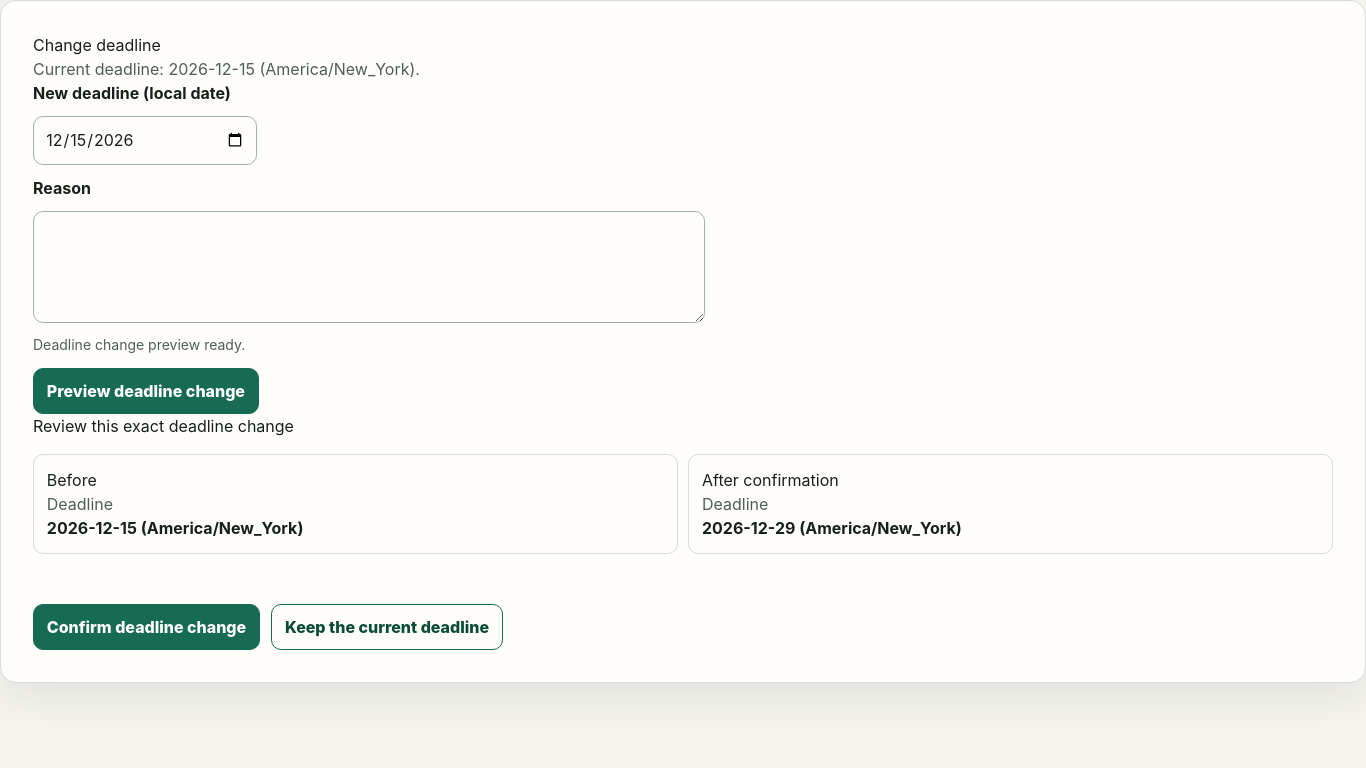
Test: InterviewCampaignDeadline › dismisses a stale confirmation when the date changes
The width and height of the screenshot is (1366, 768).
Type "2027-01-01" into the date field labelled "New deadline (local date)". click: (145, 140)
box: left=33, top=116, right=257, bottom=165
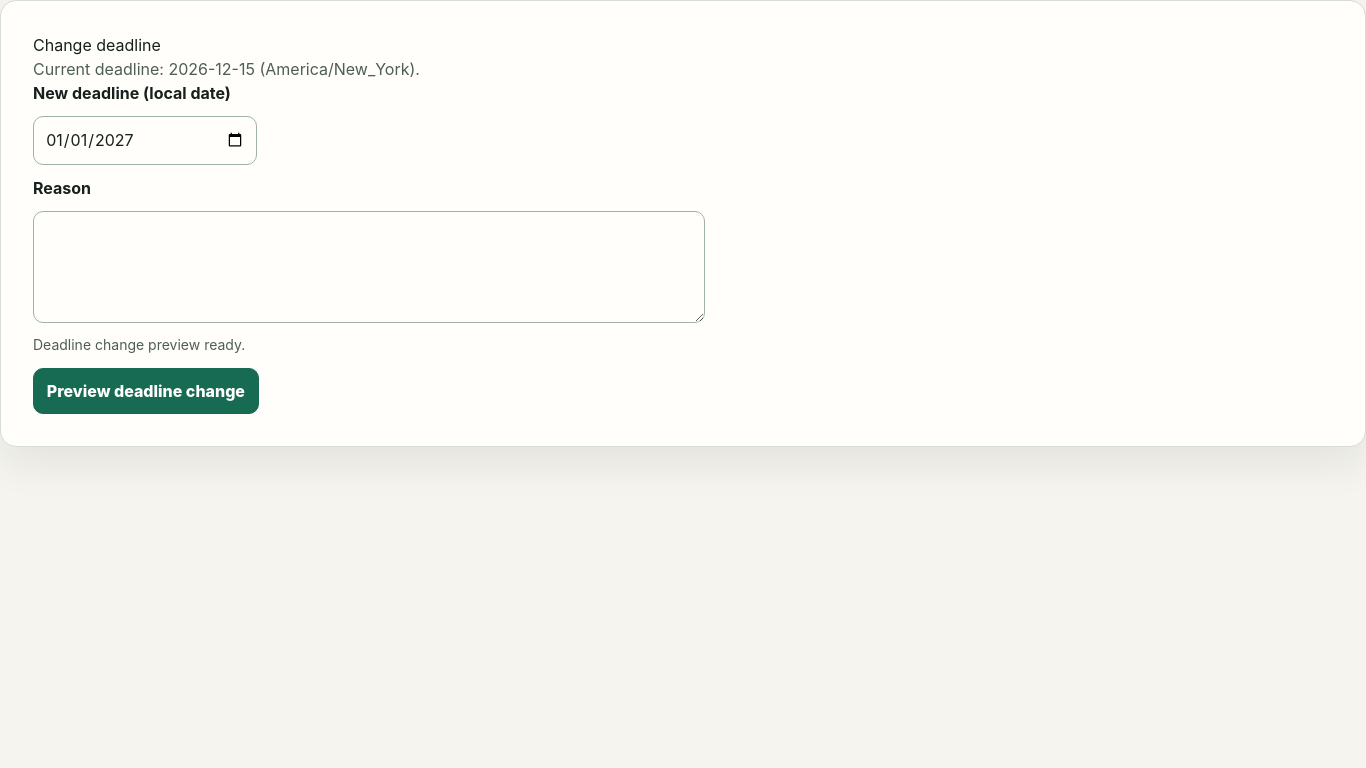
Expected: the button "Confirm deadline change" is gone
